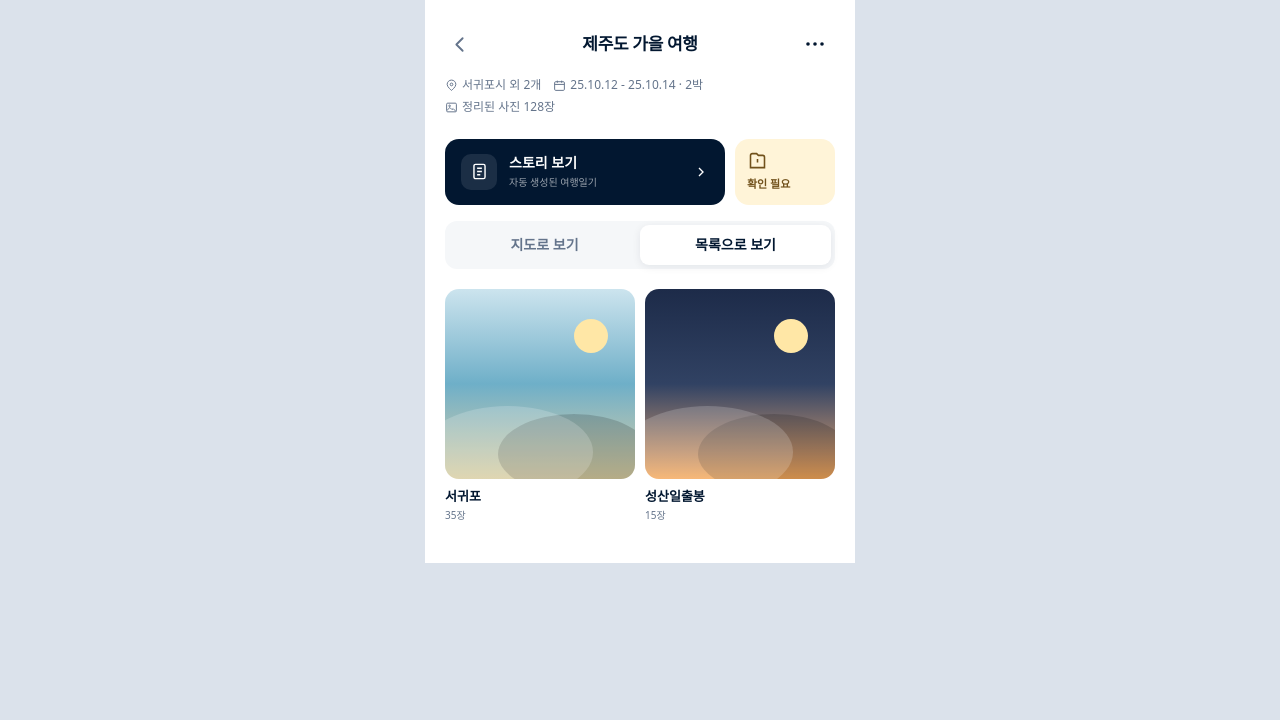
Test: TripDetailPage › hasStory가 false면 생성 유도 모달을 띄우고 나중에 할게요로 닫는다
Click the button "스토리 보기 자동 생성된 여행일기": (479, 172) [445,138,725,204]
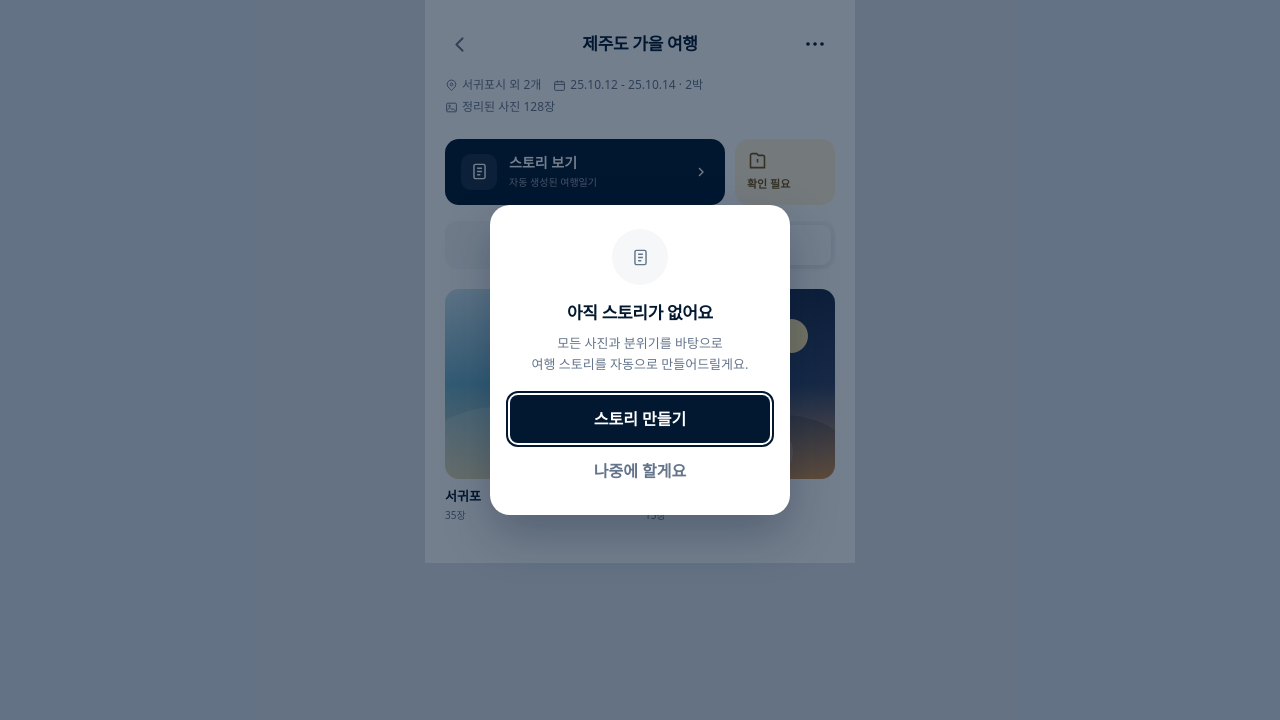
Result: the dialog "아직 스토리가 없어요" shows "여행 스토리를 자동으로 만들어드릴게요." at [532,355,748,373]
Result: the button "스토리 만들기" is shown at [510,395,770,443]
Click the button "나중에 할게요": (640, 471) [510,447,770,495]
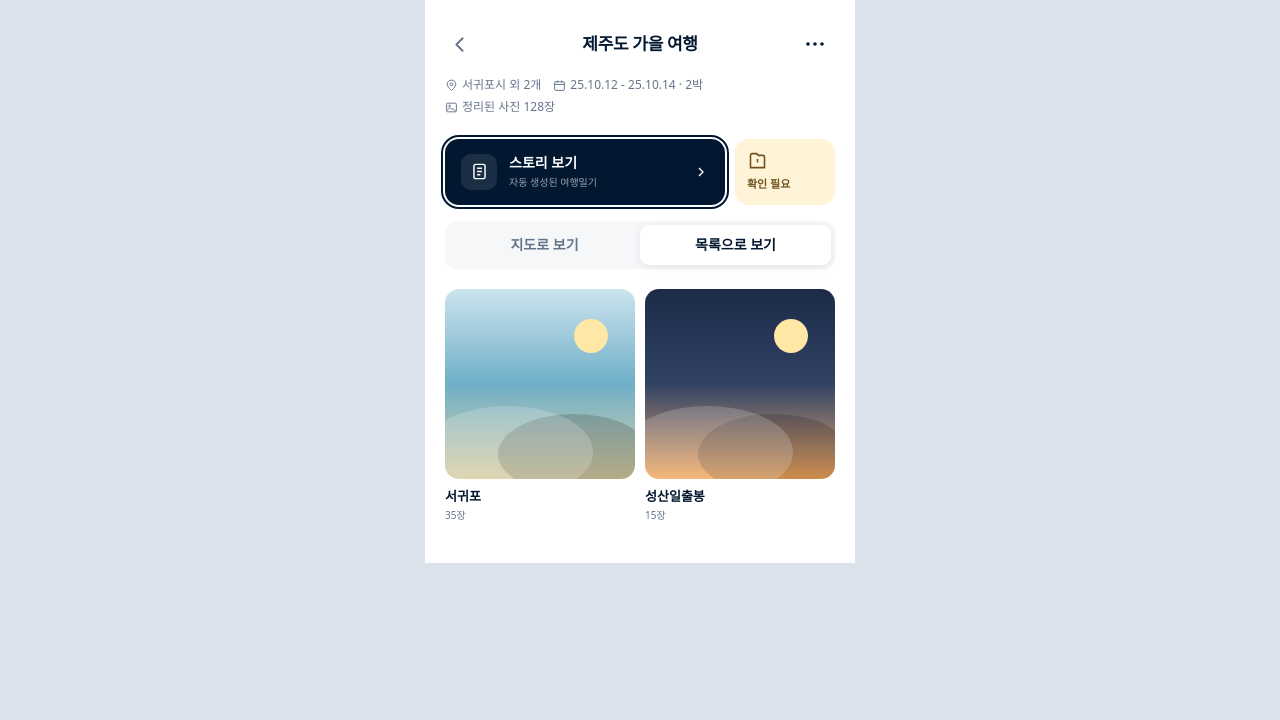
Result: the dialog is gone
